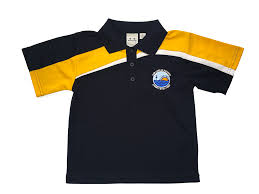S_polo shirt: (23, 16, 249, 186)
